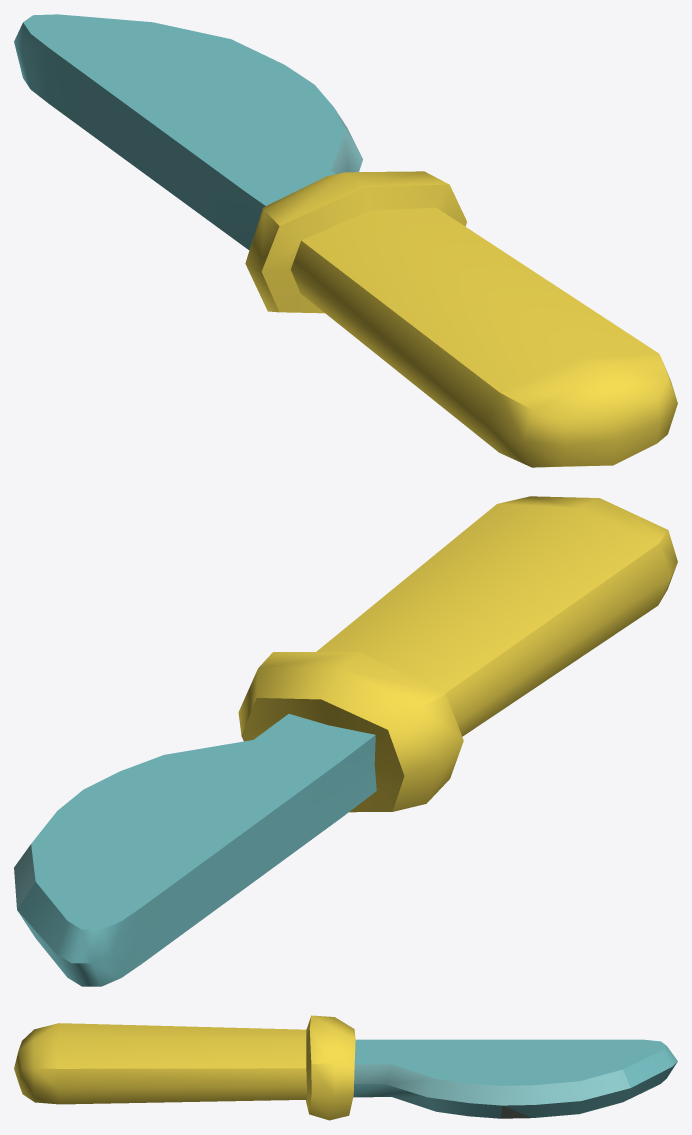
The model's file is itch_tiny_pleasant_picnic_knife.glb.
3 views of the same model, one above another, from view 1: azimuth 30°, elevation 25°; view 2: azimuth 150°, elevation 25°; view 3: azimuth 270°, elevation 25° (orthographic). The views are drawn at different scales.
Visible parts, largest first — view 1: knife; view 2: knife; view 3: knife.
Boxes of the visible parts, bbox=[...] form: knife: bbox=[14, 14, 677, 467]; knife: bbox=[14, 496, 677, 986]; knife: bbox=[14, 1015, 677, 1120].
Size of the model in its own units: 0.0983 by 0.0562 by 0.42.
